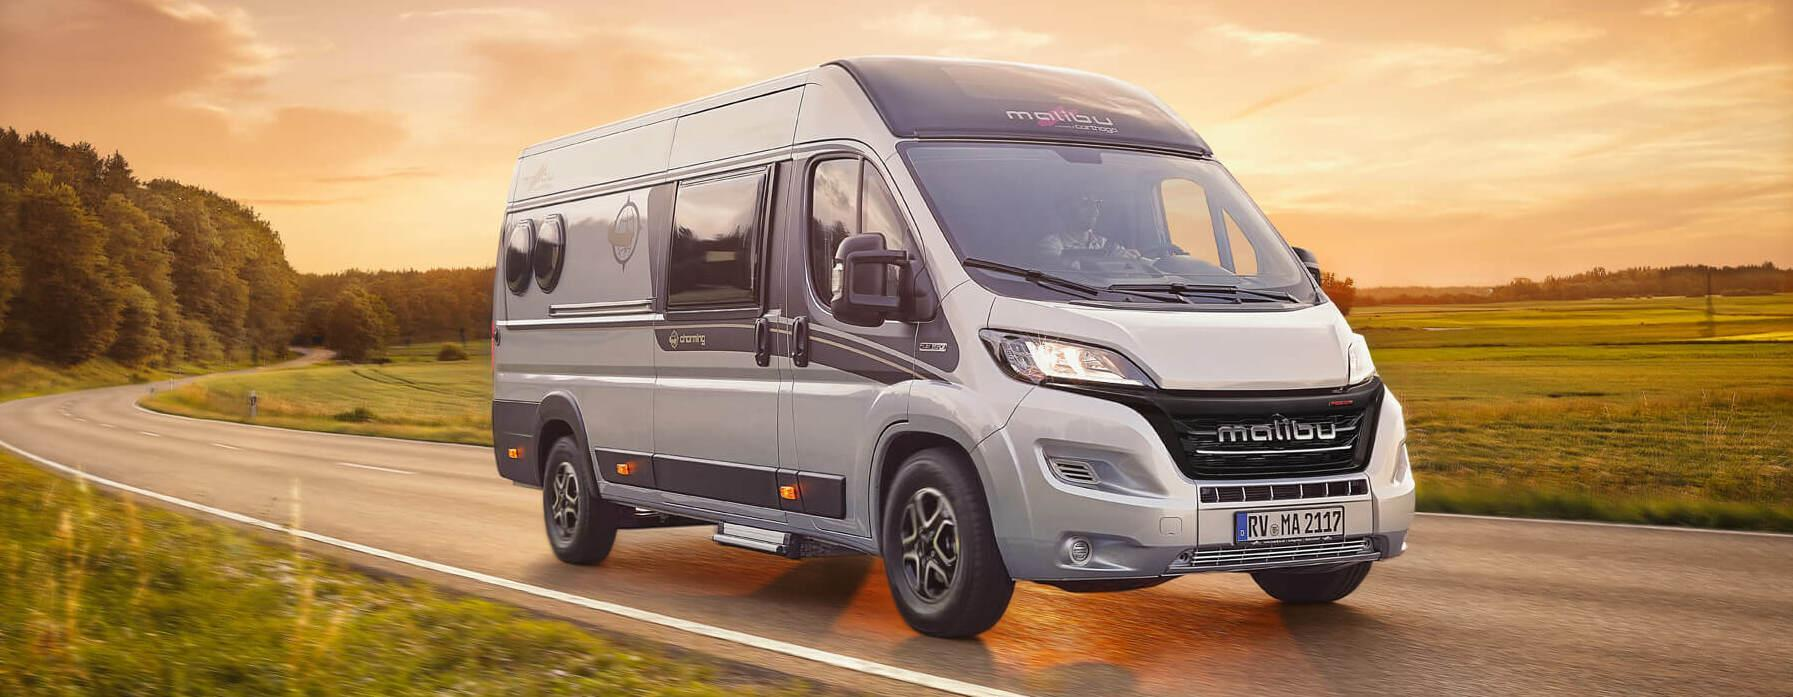car: (495, 50, 1425, 648)
